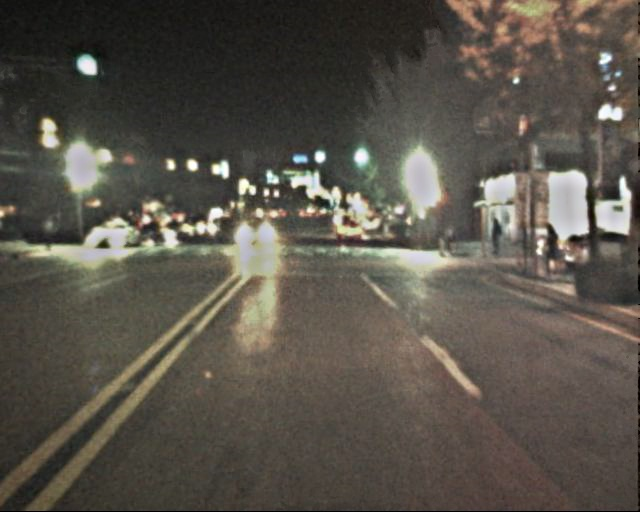person: (536, 221, 563, 284), (487, 216, 505, 261)
